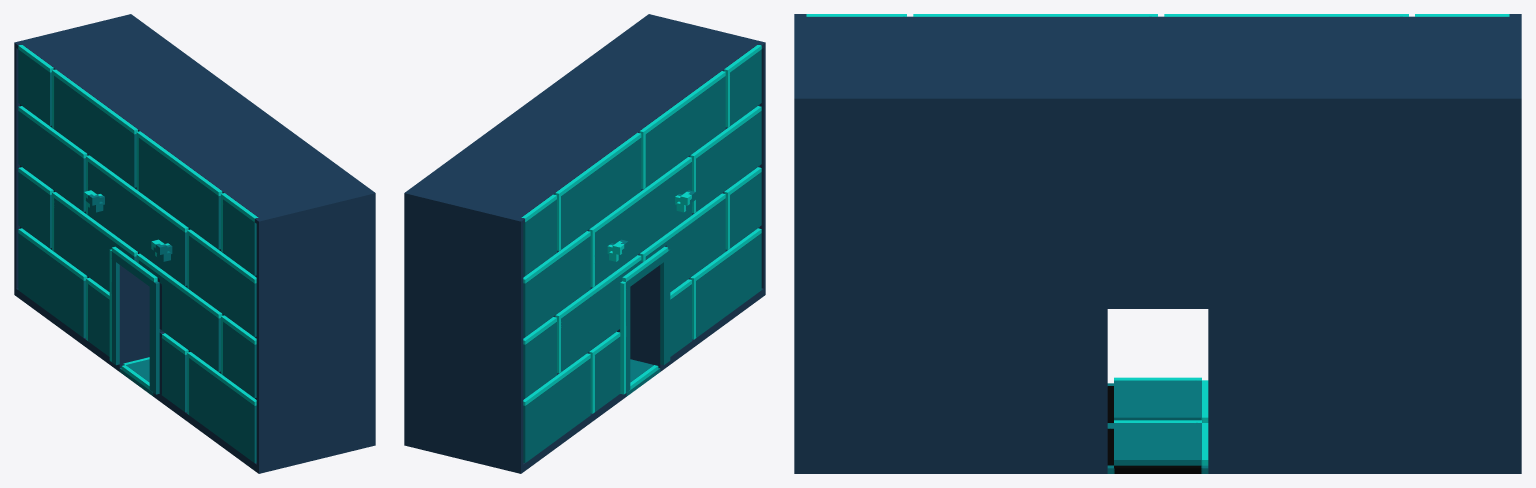
File: EastWallDoor.glb
3 renders of one model, left to right at view 1: azimuth 30°, elevation 25°; view 2: azimuth 150°, elevation 25°; view 3: azimuth 270°, elevation 25°, orthographic. The views are drawn at different scales.
Visible parts, largest first — view 1: EastWallDoor; view 2: EastWallDoor; view 3: EastWallDoor.
Part boxes in pixels (x1,y1,x2,y2): EastWallDoor: (14,14,375,473); EastWallDoor: (404,14,765,473); EastWallDoor: (794,14,1521,473).
Size of what is drawn, in the model's own units: 3.6 by 6.6 by 11.6.
Materials: 1 (1 with a texture image).
